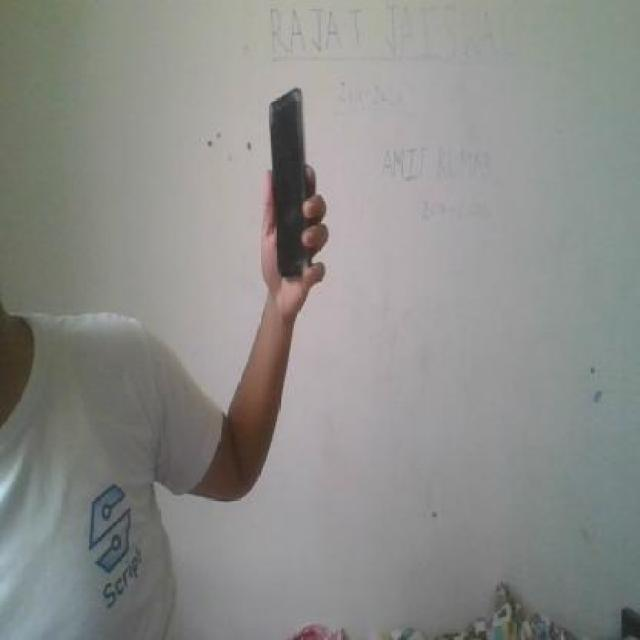Phone: (262, 83, 316, 285)
